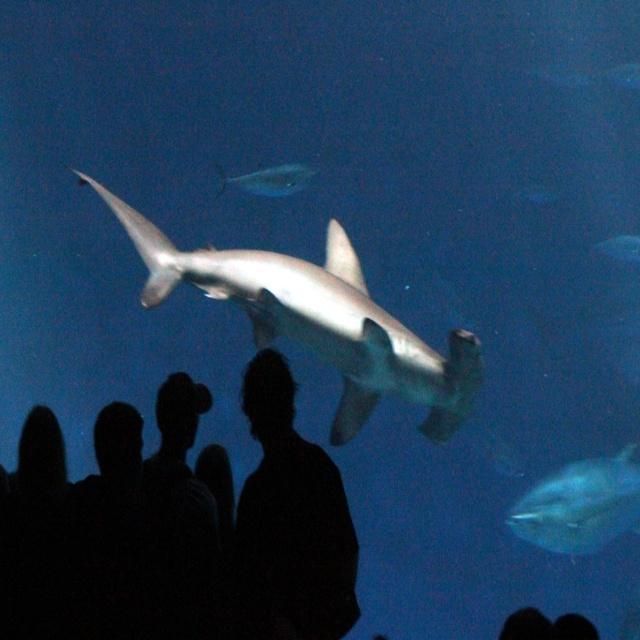Shark: (82, 170, 484, 445), (506, 437, 640, 562)
